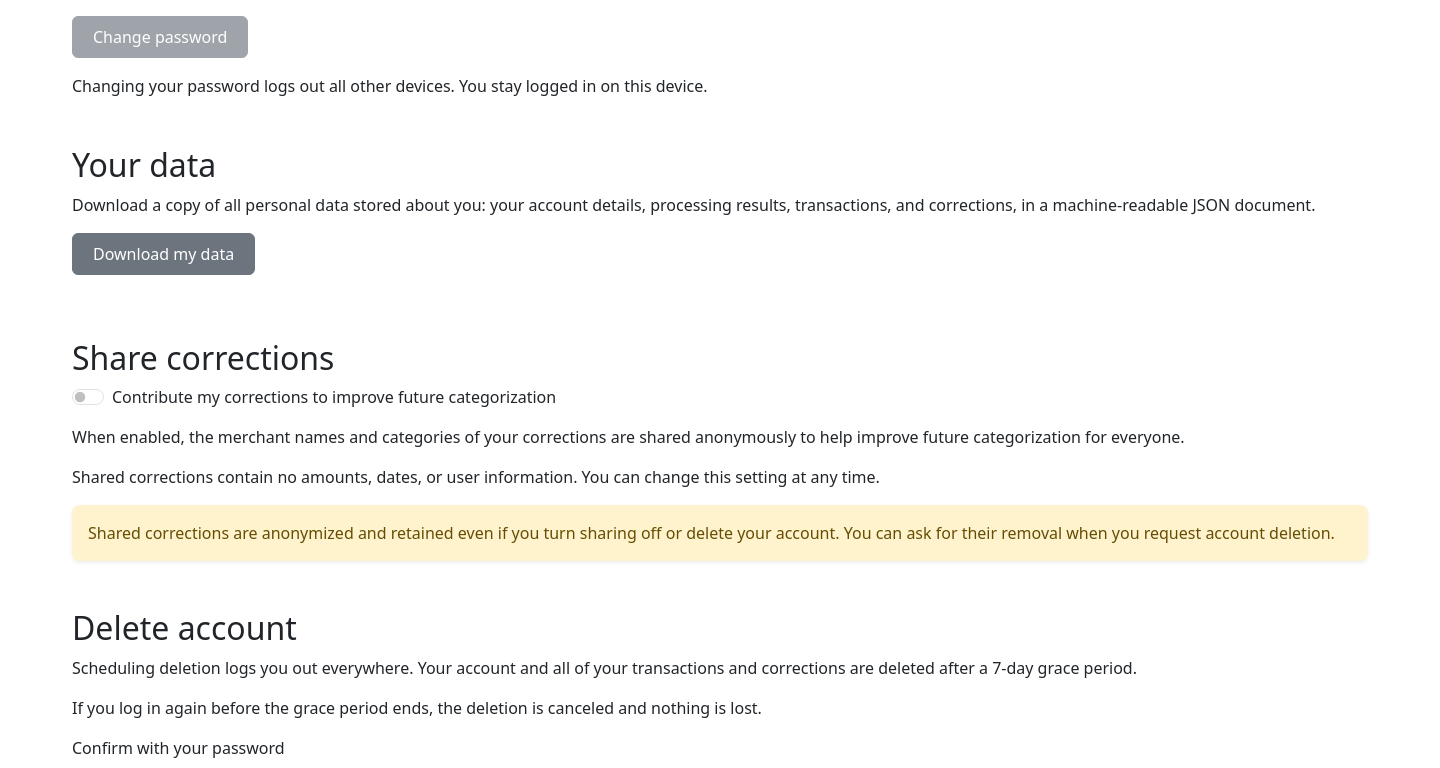
Test: Settings.vue › shows an error message when the update fails
(page scrolled)
What coordinates should you click on to do the following:
click the switch with id "optInSharingSwitch"
I would click on:
 (88, 397)
Its box is [72,389,104,405].
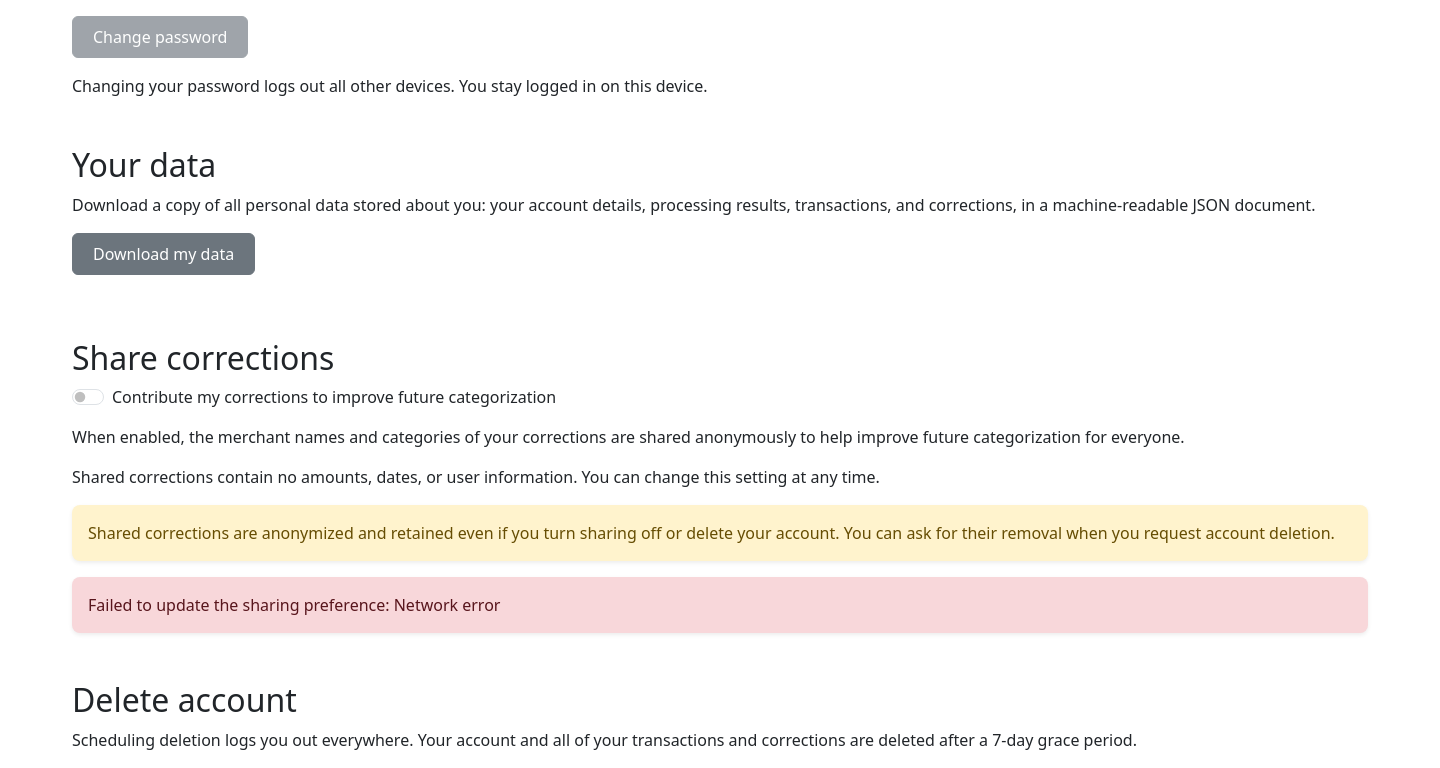
expect the text "Failed to update the sharing preference:" is shown: met, box [88,594,500,616]
expect the text "Network error" is shown: met, box [88,594,500,616]
